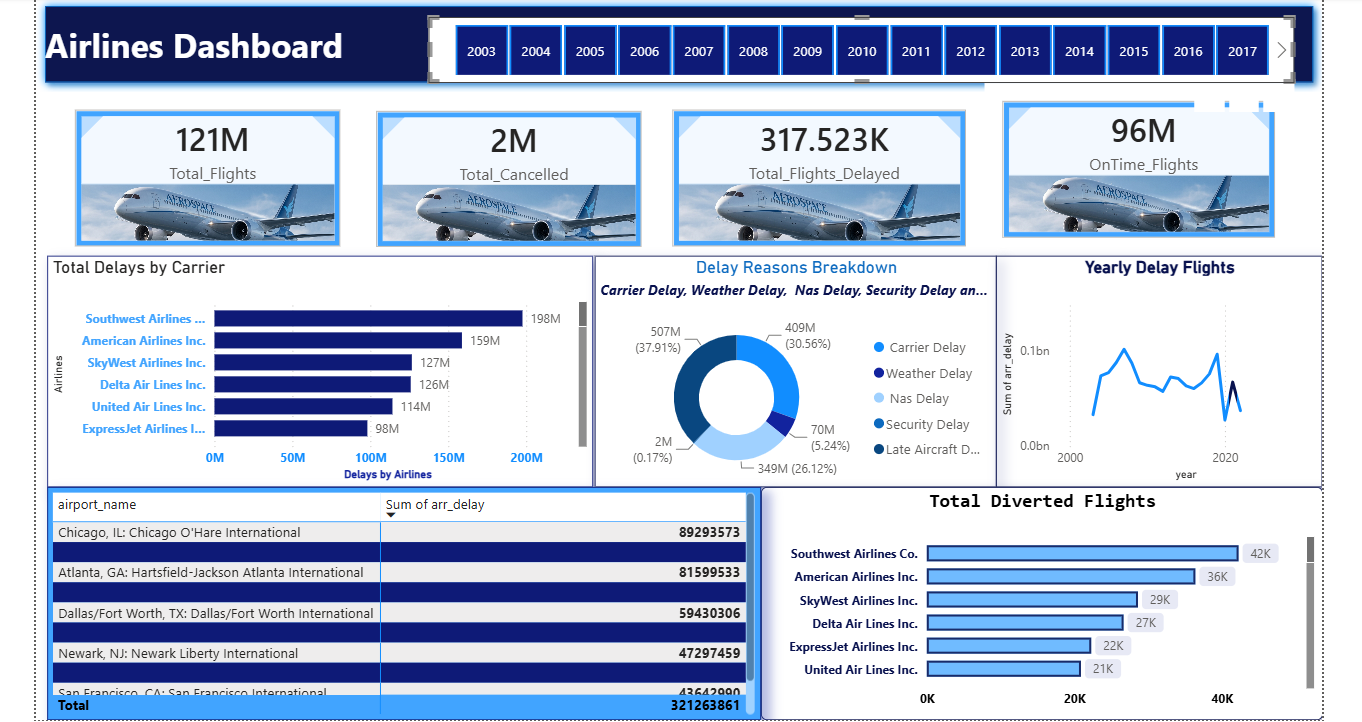

This screenshot's page, from the dashboard's own definition file:
{"tool":"powerbi","page":{"name":"Page 1","canvas":[1280,720],"ordinal":0},"visuals":[{"type":"cardVisual","fields":{"Data":["Sum(Cleaned_Airlines_Data.arr_flights)"]},"box":[21.1,94.4,300,172.2],"z":0},{"type":"shape","box":[0,0,1280,94],"z":1000},{"type":"cardVisual","fields":{"Data":["Sum(Cleaned_Airlines_Data.arr_cancelled)"]},"box":[321.1,95.6,300,171.1],"z":2000},{"type":"cardVisual","fields":{"Data":["CountNonNull(Cleaned_Airlines_Data.arr_delay)"]},"box":[615.6,94.4,328.9,172.2],"z":3000},{"type":"cardVisual","fields":{"Data":["Cleaned_Airlines_Data.OnTime_Flights"]},"box":[944.4,85.6,307.8,172.2],"z":4000},{"type":"clusteredBarChart","title":"Total Delays by Carrier","fields":{"Category":["Cleaned_Airlines_Data.carrier_name"],"Y":["Sum(Cleaned_Airlines_Data.arr_delay)"]},"box":[11.1,257.8,543.3,230],"z":5000},{"type":"donutChart","title":"Delay Reasons Breakdown","fields":{"Y":["Sum(Cleaned_Airlines_Data.carrier_delay)","Sum(Cleaned_Airlines_Data.weather_delay)","Sum(Cleaned_Airlines_Data.nas_delay)","Sum(Cleaned_Airlines_Data.security_delay)","Sum(Cleaned_Airlines_Data.late_aircraft_delay)"]},"box":[555.6,257.8,400,230],"z":6000},{"type":"lineChart","title":"Yearly Delay Flights","fields":{"Category":["Cleaned_Airlines_Data.year"],"Y":["Sum(Cleaned_Airlines_Data.arr_delay)"]},"box":[955.6,257.8,324.4,230],"z":7000},{"type":"slicer","fields":{"Values":["Cleaned_Airlines_Data.year"]},"box":[391.1,20,861.1,65.6],"z":8000},{"type":"clusteredBarChart","title":"Total Diverted Flights","fields":{"Category":["Cleaned_Airlines_Data.carrier_name"],"Y":["Sum(Cleaned_Airlines_Data.arr_diverted)"]},"box":[721.1,487.8,558.9,232.2],"z":9000},{"type":"pivotTable","fields":{"Rows":["Cleaned_Airlines_Data.airport_name"],"Values":["Sum(Cleaned_Airlines_Data.arr_delay)"]},"box":[11.1,487.8,710,232.2],"z":10000}]}

Visuals, with their boxes on the page's 1280x720 design canvas (x1, y1, x2, y2). These are canvas units, not pixel positions in the 1362x722 screenshot, which may show the page scaled, cropped or inside an application window:
cardVisual - Sum(Cleaned_Airlines_Data.arr_flights): (left=21, top=94, right=321, bottom=267)
shape: (left=0, top=0, right=1280, bottom=94)
cardVisual - Sum(Cleaned_Airlines_Data.arr_cancelled): (left=321, top=96, right=621, bottom=267)
cardVisual - CountNonNull(Cleaned_Airlines_Data.arr_delay): (left=616, top=94, right=944, bottom=267)
cardVisual - Cleaned_Airlines_Data.OnTime_Flights: (left=944, top=86, right=1252, bottom=258)
"Total Delays by Carrier" clusteredBarChart: (left=11, top=258, right=554, bottom=488)
"Delay Reasons Breakdown" donutChart: (left=556, top=258, right=956, bottom=488)
"Yearly Delay Flights" lineChart: (left=956, top=258, right=1280, bottom=488)
slicer - Cleaned_Airlines_Data.year: (left=391, top=20, right=1252, bottom=86)
"Total Diverted Flights" clusteredBarChart: (left=721, top=488, right=1280, bottom=720)
pivotTable - Cleaned_Airlines_Data.airport_name x Sum(Cleaned_Airlines_Data.arr_delay): (left=11, top=488, right=721, bottom=720)
